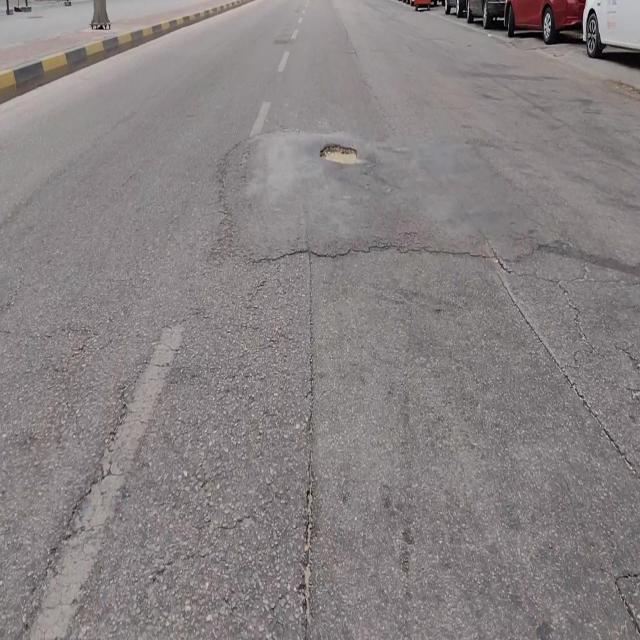Potholes: (319, 142, 359, 167)
